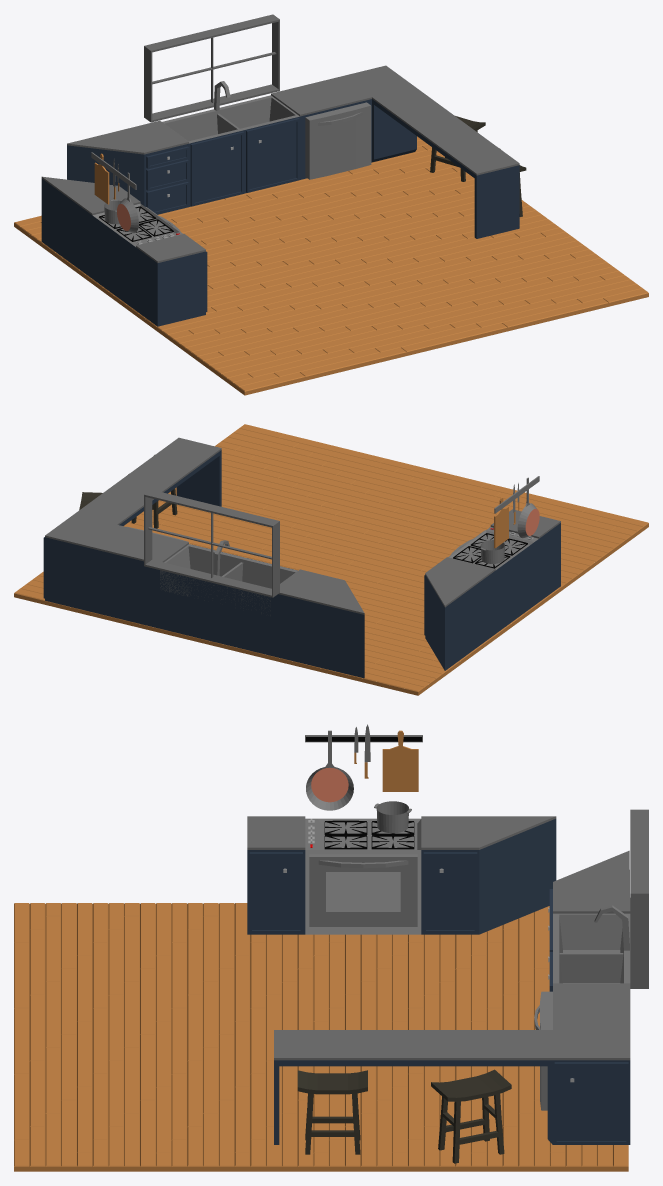
The model's file is level.gltf.
3 views of the same model, one above another, from view 1: azimuth 30°, elevation 25°; view 2: azimuth 150°, elevation 25°; view 3: azimuth 270°, elevation 25° (orthographic). The views are drawn at different scales.
Parts seen in each view (by area): view 1: floor, counters, dishWasher, window, sink, oven, pan, cuttingBoard; view 2: floor, counters, window, sink, oven, pan, cuttingBoard, pot; view 3: floor, counters, ovenDoor, sink, oven, stool.002, window, stool.001, pan, cuttingBoard, pot, dishWasher (+1 smaller).
Boxes of the visible parts, <box> form: floor: <box>14,136,648,395</box>; counters: <box>41,65,519,326</box>; dishWasher: <box>305,102,371,179</box>; window: <box>144,14,279,122</box>; sink: <box>162,81,299,143</box>; oven: <box>93,203,182,246</box>; pan: <box>117,172,138,233</box>; cuttingBoard: <box>94,153,109,204</box>; floor: <box>14,424,648,695</box>; counters: <box>43,437,560,678</box>; window: <box>144,489,279,597</box>; sink: <box>160,540,297,615</box>; oven: <box>449,527,538,569</box>; pan: <box>517,477,539,538</box>; cuttingBoard: <box>494,497,508,548</box>; pot: <box>480,540,505,563</box>; floor: <box>14,903,628,1171</box>; counters: <box>247,816,630,1144</box>; ovenDoor: <box>309,854,417,926</box>; sink: <box>553,905,630,983</box>; oven: <box>305,818,421,934</box>; stool.002: <box>431,1069,511,1163</box>; window: <box>630,809,648,988</box>; stool.001: <box>297,1070,367,1154</box>; pan: <box>306,730,353,810</box>; cuttingBoard: <box>382,730,418,791</box>; pot: <box>374,801,411,833</box>; dishWasher: <box>534,991,552,1110</box>.
Bounding box in the file's own units: 16.17 × 5.38 × 16.4.
